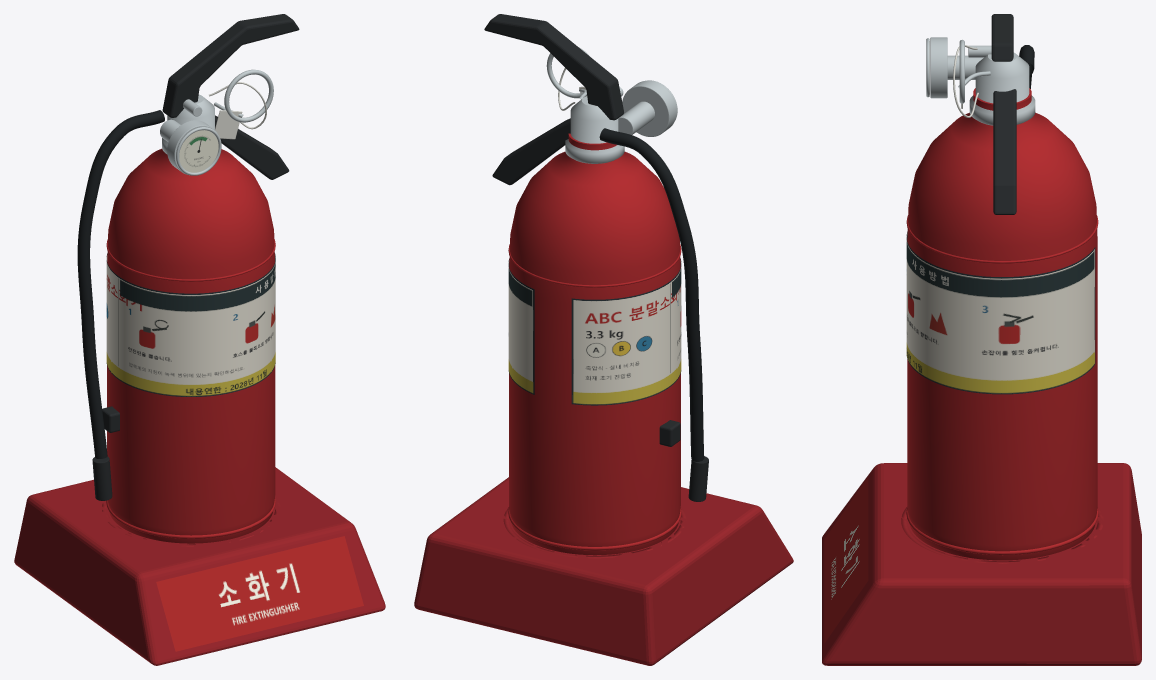
File: ABC_Fire_Extinguisher.fbx
The picture shows the model from 3 angles, left to right: view 1: azimuth 30°, elevation 25°; view 2: azimuth 150°, elevation 25°; view 3: azimuth 270°, elevation 25°; orthographic projection. The views are drawn at different scales.
Visible parts, largest first — view 1: ABC_Fire_Extinguisher; view 2: ABC_Fire_Extinguisher; view 3: ABC_Fire_Extinguisher.
Boxes of the visible parts, x1=… form: ABC_Fire_Extinguisher: x1=14, y1=14, x2=385, y2=665; ABC_Fire_Extinguisher: x1=414, y1=14, x2=793, y2=665; ABC_Fire_Extinguisher: x1=822, y1=14, x2=1141, y2=665.
Bounding box in the file's own units: 0.2524 × 0.5638 × 0.262.
Materials: 9 (3 with a texture image).
